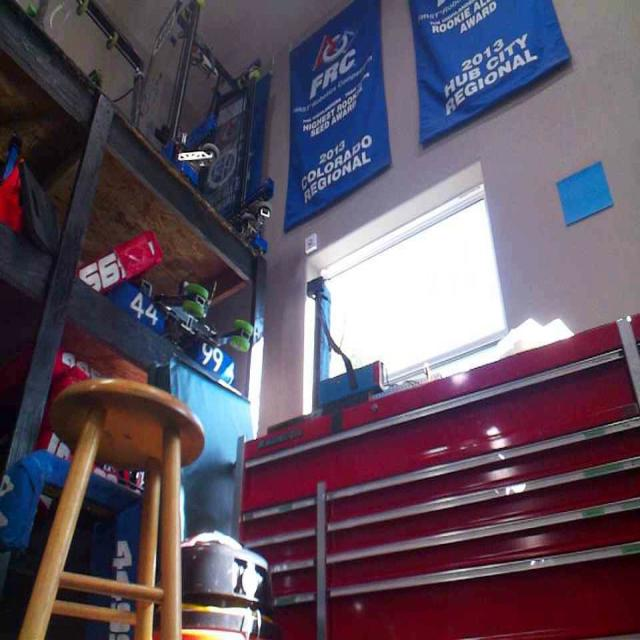square_blue: (556, 160, 612, 225)
